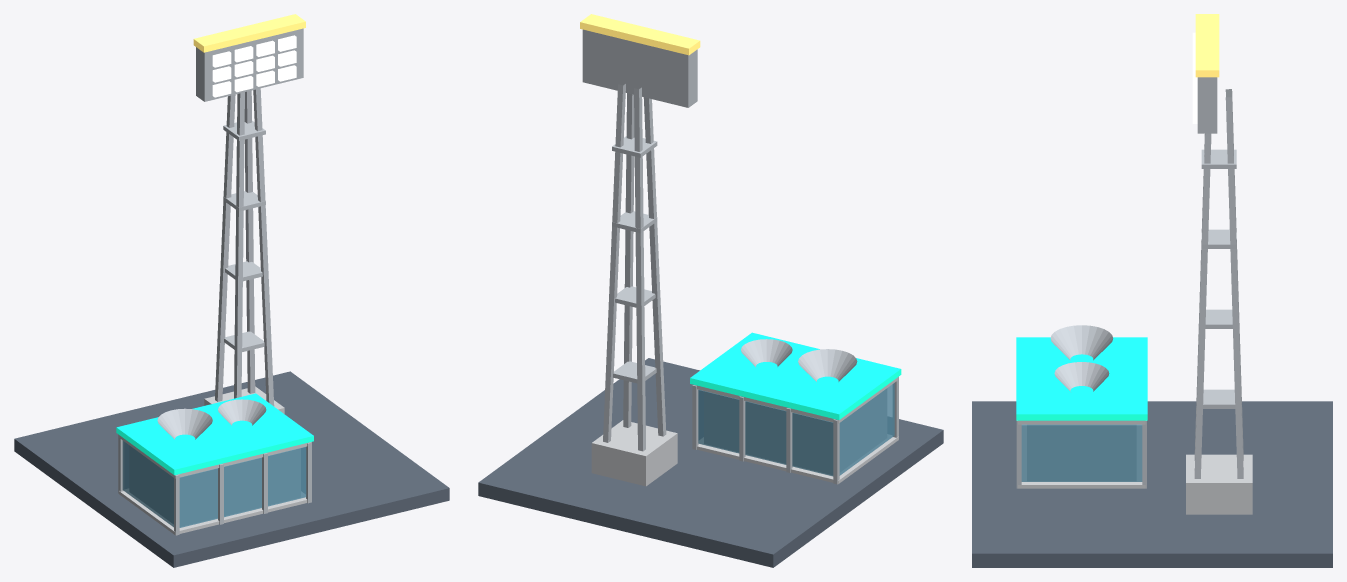
File: floodlight_tower.master.glb
The picture shows the model from 3 angles, left to right: view 1: azimuth 30°, elevation 25°; view 2: azimuth 150°, elevation 25°; view 3: azimuth 270°, elevation 25°; orthographic projection. The views are drawn at different scales.
Visible parts, largest first — view 1: floodlight_tower_master; view 2: floodlight_tower_master; view 3: floodlight_tower_master.
Boxes of the visible parts, <box> form: floodlight_tower_master: <box>14,14,449,567</box>; floodlight_tower_master: <box>478,14,943,567</box>; floodlight_tower_master: <box>972,14,1332,567</box>.
Size of the model in its own units: 1.84 by 2.66 by 1.84.
